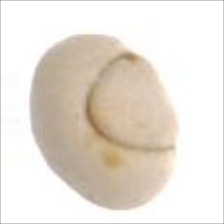L5: (82, 53, 179, 154)
L6: (29, 32, 182, 213)
